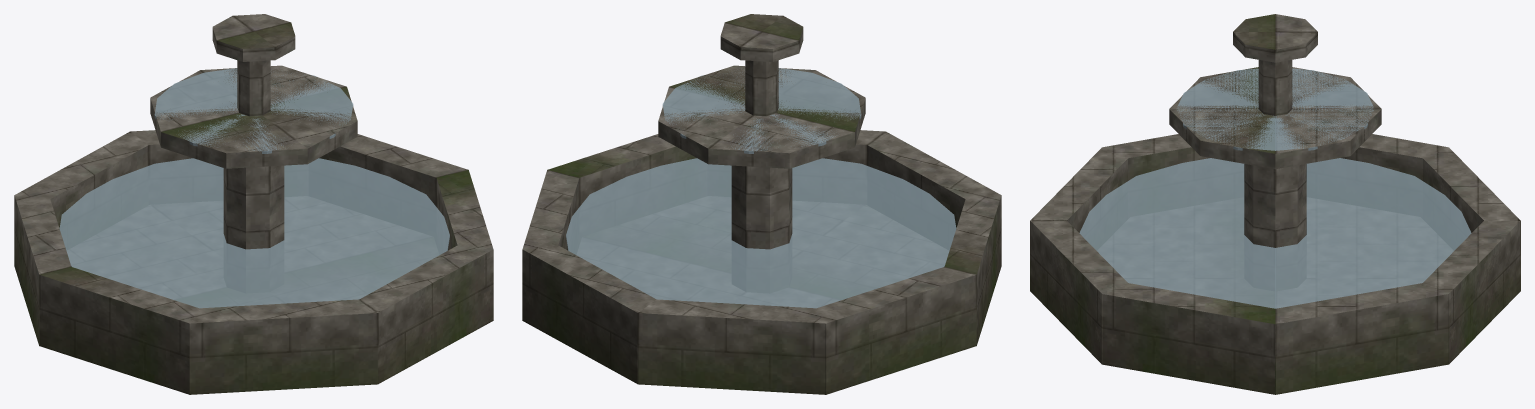
Rendered from bld_fountain_a_LOD1.glb.
The picture shows the model from 3 angles, left to right: view 1: azimuth 30°, elevation 25°; view 2: azimuth 150°, elevation 25°; view 3: azimuth 270°, elevation 25°; orthographic projection.
Parts seen in each view (by area): view 1: bld_fountain_a_stone, bld_fountain_a_water; view 2: bld_fountain_a_stone, bld_fountain_a_water; view 3: bld_fountain_a_stone, bld_fountain_a_water.
Part boxes in pixels (x1,y1,x2,y2): bld_fountain_a_stone: [14, 14, 493, 394]; bld_fountain_a_water: [59, 68, 449, 308]; bld_fountain_a_stone: [522, 14, 1001, 394]; bld_fountain_a_water: [566, 68, 956, 308]; bld_fountain_a_stone: [1030, 14, 1520, 394]; bld_fountain_a_water: [1079, 68, 1471, 308].
Size of the model in its own units: 3.47 by 2.02 by 3.47.
2 materials, 1 textured.
